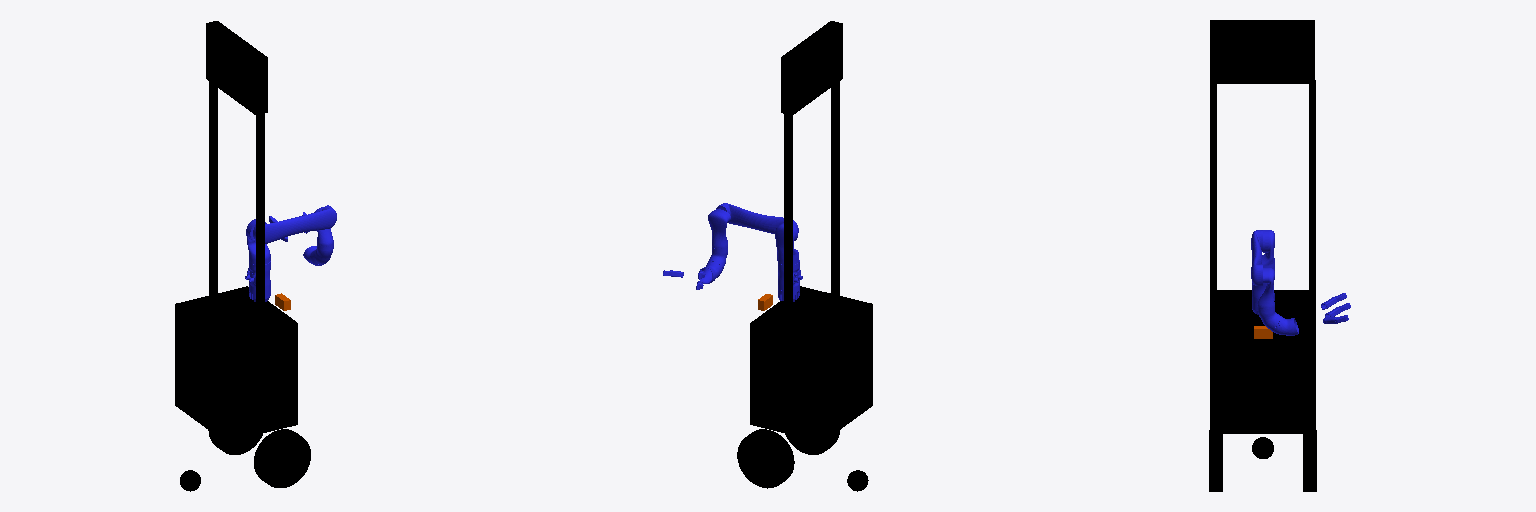
--- What the picture shows (computed from the rendered views, not written in the file) ---
Views: 3 orthographic renders of the robot side by side, from view 1: azimuth 30°, elevation 25°; view 2: azimuth 150°, elevation 25°; view 3: azimuth 270°, elevation 25°.
Robot: sudo — 21 links, 20 joints (9 revolute, 2 continuous, 9 fixed); root link chassis; default pose: all joints at 0.
Links seen in each view (by area): view 1: bottom_body_box, top_body_box, right_wheel, top_bar_right, top_bar_left, mico_upper_arm_link, left_wheel; view 2: bottom_body_box, top_body_box, left_wheel, top_bar_left, top_bar_right, mico_upper_arm_link, mico_lower_arm_link, right_wheel; view 3: bottom_body_box, top_body_box, top_bar_left, top_bar_right, right_wheel, left_wheel, mico_upper_arm_link.
Boxes of the visible links, left/top/right/bottom form: bottom_body_box: left=175, top=286, right=297, bottom=441; top_body_box: left=206, top=21, right=267, bottom=115; right_wheel: left=254, top=429, right=310, bottom=487; top_bar_right: left=256, top=114, right=264, bottom=332; top_bar_left: left=209, top=82, right=217, bottom=297; mico_upper_arm_link: left=253, top=205, right=336, bottom=243; left_wheel: left=208, top=430, right=262, bottom=454; bottom_body_box: left=750, top=286, right=872, bottom=442; top_body_box: left=781, top=21, right=842, bottom=115; left_wheel: left=737, top=429, right=794, bottom=488; top_bar_left: left=784, top=114, right=792, bottom=332; top_bar_right: left=831, top=81, right=839, bottom=297; mico_upper_arm_link: left=716, top=203, right=798, bottom=233; mico_lower_arm_link: left=708, top=209, right=730, bottom=249; right_wheel: left=785, top=430, right=839, bottom=454; bottom_body_box: left=1210, top=290, right=1315, bottom=433; top_body_box: left=1210, top=20, right=1314, bottom=83; top_bar_left: left=1309, top=80, right=1315, bottom=309; top_bar_right: left=1210, top=84, right=1216, bottom=309; right_wheel: left=1209, top=430, right=1222, bottom=491; left_wheel: left=1303, top=430, right=1316, bottom=491; mico_upper_arm_link: left=1251, top=230, right=1262, bottom=285.
Size in the robot's own frame: 0.7099 by 0.5115 by 1.81 metres.
Meshes: 11 distinct files referenced, 9 mesh visuals loaded (7 Collada DAE); not drawn: 5 (reference not matched to a file when rendering).

robot.urdf — sudo:
<?xml version="1.0" ?>
<!-- =================================================================================== -->
<!-- |    This document was autogenerated by xacro from model.urdf.xacro               | -->
<!-- |    EDITING THIS FILE BY HAND IS NOT RECOMMENDED                                 | -->
<!-- =================================================================================== -->

<robot name="sudo" xmlns:controller="http://playerstage.sourceforge.net/gazebo/xmlschema/#controller" xmlns:interface="http://playerstage.sourceforge.net/gazebo/xmlschema/#interface" xmlns:sensor="http://playerstage.sourceforge.net/gazebo/xmlschema/#sensor" xmlns:xacro="http://ros.org/wiki/xacro">
  <origin rpy="0 0 0" xyz="0 0 0"/>
  <!-- Pioneer 2 Chassis-->
  <link name="chassis">
    <origin rpy="0 0 0" xyz="0 0 0.16"/>
    <visual name="visual">
      <origin rpy="0 0 0" xyz="0 0 0.04"/>
      <geometry>
        <mesh filename="package://sudo_description/models/pioneer2dx/meshes/chassis.dae"/>
      </geometry>
    </visual>
    <visual name="castor_visual">
      <origin rpy="0 0 0" xyz="-0.200 0 -0.12"/>
      <geometry>
        <sphere radius="0.04"/>
      </geometry>
      <material name="black">
        <color rgba="0 0 0 1.0"/>
      </material>
    </visual>
    <collision>
      <origin rpy="0 0 0" xyz="0 0 0.04"/>
      <geometry>
        <mesh filename="package://sudo_description/models/pioneer2dx/meshes/chassis.dae"/>
      </geometry>
    </collision>
  </link>
  <!-- Bottom cube of Sudo-->
  <link name="bottom_body_box">
    <visual name="visual">
      <geometry>
        <box size="0.315 0.38 0.42"/>
      </geometry>
      <material name="black">
        <color rgba="0 0 0 1.0"/>
      </material>
    </visual>
    <collision>
      <geometry>
        <box size="0.315 0.38 0.42"/>
      </geometry>
    </collision>
  </link>
  <!-- Top bar left of sudo-->
  <link name="top_bar_left">
    <origin rpy="0 0 0" xyz="0.04 0.165 1"/>
    <visual name="visual">
      <geometry>
        <box size="0.025 0.025 0.9"/>
      </geometry>
      <material name="black">
        <color rgba="0 0 0 1.0"/>
      </material>
    </visual>
    <collision>
      <geometry>
        <box size="0.025 0.025 0.9"/>
      </geometry>
    </collision>
  </link>
  <!-- Top bar right of sudo-->
  <link name="top_bar_right">
    <origin rpy="0 0 0" xyz="0.04 -0.165 1"/>
    <visual name="visual">
      <geometry>
        <box size="0.025 0.025 0.9"/>
      </geometry>
      <material name="black">
        <color rgba="0 0 0 1.0"/>
      </material>
    </visual>
    <collision>
      <geometry>
        <box size="0.025 0.025 0.9"/>
      </geometry>
    </collision>
  </link>
  <!-- Top part of sudo-->
  <link name="top_body_box">
    <origin rpy="0 0 0" xyz="0.04 0 1.7"/>
    <visual name="visual">
      <geometry>
        <box size="0.05 0.377 0.23"/>
      </geometry>
      <material name="black">
        <color rgba="0 0 0 1.0"/>
      </material>
    </visual>
    <collision>
      <geometry>
        <box size="0.05 0.377 0.23"/>
      </geometry>
    </collision>
  </link>
  <!-- Small webcam that Amir uses for Navigation-->
  <link name="webcam_link">
    <origin rpy="0 0 0" xyz="0.2 0 0.77"/>
    <visual name="visual">
      <geometry>
        <box size="0.029 0.068 0.040"/>
      </geometry>
    </visual>
  </link>
  <!-- The link for bottom kinect-->
  <link name="camera_link">
    <origin rpy="0 1.24 0" xyz="0.2 0 1.62"/>
    <visual name="visual">
      <geometry>
        <mesh filename="package://sudo_description/models/kinect/meshes/kinect.dae"/>
      </geometry>
    </visual>
  </link>
  <!-- The link for top kinect-->
  <link name="camera2_link">
    <origin rpy="0 0.33 0" xyz="0.07 0 1.85"/>
    <visual name="visual">
      <geometry>
        <mesh filename="package://sudo_description/models/kinect/meshes/kinect.dae"/>
      </geometry>
    </visual>
  </link>
  <!-- The link for sick laser. The used model is actually hokoyu-->
  <link name="laser_link">
    <origin rpy="0 0 3.14" xyz="-0.2 0 0.3"/>
    <visual name="visual">
      <geometry>
        <mesh filename="package://sudo_description/models/hokuyo/meshes/hokuyo.dae"/>
      </geometry>
    </visual>
  </link>



  <link name="right_wheel">
    <origin rpy="1.5707 1.5707 0" xyz="0.1 -0.17 0.11"/>
    <visual name="visual">
      <geometry>
        <cylinder length="0.05" radius="0.11"/>
      </geometry>
      <material name="black">
        <color rgba="0 0 0 1.0"/>
      </material>
    </visual>
    <collision>
      <geometry>
        <cylinder length="0.05" radius="0.11"/>
      </geometry>
    </collision>
  </link>

  <gazebo reference="right_wheel">
    <!-- fnh -->
    <material>Gazebo/Black</material>
    <turnGravityOff>false</turnGravityOff>
    <selfCollide>true</selfCollide>
    <mu1>100.0</mu1>
    <mu2>100.0</mu2>
    <kp>1000000.0</kp>
    <kd>1.0</kd>
  </gazebo>    

  <link name="left_wheel">
    <origin rpy="1.5707 1.5707 0" xyz="0.1 0.17 0.11"/>
    <visual name="visual">
      <geometry>
        <cylinder length="0.05" radius="0.11"/>
      </geometry>
      <material name="black">
        <color rgba="0 0 0 1.0"/>
      </material>
    </visual>
    <collision>
      <geometry>
        <cylinder length="0.05" radius="0.11"/>
      </geometry>
    </collision>
  </link>

  <gazebo reference="left_wheel">
    <!-- fnh -->
    <material>Gazebo/Black</material>
    <turnGravityOff>false</turnGravityOff>
    <selfCollide>true</selfCollide>
    <mu1>100.0</mu1>
    <mu2>100.0</mu2>
    <kp>1000000.0</kp>
    <kd>1.0</kd>
  </gazebo>
  

  <controller:diffdrive_plugin name="differential_drive_controller" plugin="libdiffdrive_plugin.so">
    <alwaysOn>true</alwaysOn>
    <update>100</update>
    <updateRate>100.0</updateRate>
    <leftJoint>left_wheel_hinge</leftJoint>
    <rightJoint>right_wheel_hinge</rightJoint>
    <wheelSeparation>0.34</wheelSeparation>
    <wheelDiameter>0.11</wheelDiameter>
    <torque>5</torque>
    <interface:position name="position_iface_0"/>
    <robotNamespace>/</robotNamespace>
    <topicName>cmd_vel</topicName>
  </controller:diffdrive_plugin>

  <joint name="left_wheel_hinge" type="continuous">
    <origin rpy="1.5707 0 0" xyz="0.1 0.17 -0.03"/>
    <child link="left_wheel"/>
    <parent link="chassis"/>
    <axis xyz="0 1 0"/>
    <limit effort="100" velocity="100"/>
    <joint_properties damping="0.0" friction="0.0"/>
  </joint>
  
    <transmission name="left_wheel_transmission">
    <type>transmission_interface/SimpleTransmission</type>
    <actuator name="left_wheel_motor">
      <hardwareInterface>EffortJointInterface</hardwareInterface>
      <mechanicalReduction>50</mechanicalReduction>
    </actuator>
    <joint name="left_wheel_hinge"/>
    <mechanicalReduction>50</mechanicalReduction>
    <motorTorqueConstant>1</motorTorqueConstant>
    <pulsesPerRevolution>10000</pulsesPerRevolution>
  </transmission>
  
  <joint name="right_wheel_hinge" type="continuous">
    <origin rpy="1.5707 0 0" xyz="0.1 -0.17 -0.03"/>
    <child link="right_wheel"/>
    <parent link="chassis"/>
    <axis xyz=" 0 1 0"/>
    <limit effort="100" velocity="100"/>
    <joint_properties damping="0.0" friction="0.0"/>
  </joint>
  <transmission name="right_wheel_transmission">
    <type>transmission_interface/SimpleTransmission</type>
    <actuator name="right_wheel_motor">
      <hardwareInterface>EffortJointInterface</hardwareInterface>
      <mechanicalReduction>50</mechanicalReduction>
    </actuator>
    <joint name="right_wheel_hinge"/>
    <mechanicalReduction>50</mechanicalReduction>
    <motorTorqueConstant>1</motorTorqueConstant>
    <pulsesPerRevolution>10000</pulsesPerRevolution>
  </transmission>
  
  <!-- Connection between chassis and bottom rectangular box-->
  <joint name="chassis_to_bottom" type="fixed">
    <origin rpy=" 0 0 0" xyz="0 0 0.315"/>
    <child link="bottom_body_box"/>
    <parent link="chassis"/>
  </joint>
  <!-- Connection between chassis and laser-->
  <joint name="laser_to_chassis" type="fixed">
    <origin rpy="0 0 3.14" xyz="-0.2 0 0.15 "/>
    <child link="laser_link"/>
    <parent link="chassis"/>
  </joint>
  <!-- Connection between top bar left and bottom rectangular boxes-->
  <joint name="bottom_to_bar_left" type="fixed">
    <origin rpy="0 0 0" xyz="0 0.177 0.66"/>
    <child link="top_bar_left"/>
    <parent link="bottom_body_box"/>
  </joint>
  <!-- Connection between top bar right and bottom rectangular boxes-->
  <joint name="bottom_to_bar_right" type="fixed">
    <origin rpy="0 0 0" xyz="0 -0.177 0.66"/>
    <child link="top_bar_right"/>
    <parent link="bottom_body_box"/>
  </joint>
  <!-- Connection between top and bottom rectangular boxes-->
  <joint name="bar_left_to_top" type="fixed">
    <origin rpy="0 0 0" xyz="0 -0.178 0.565"/>
    <child link="top_body_box"/>
    <parent link="top_bar_left"/>
  </joint>
  <!-- Connection between webcam and bottom rectangular box-->
  <joint name="bottom_to_webcam" type="fixed">
    <origin rpy="0 0 0" xyz="0.2 0 0.21"/>
    <child link="webcam_link"/>
    <parent link="bottom_body_box"/>
  </joint>
  <!-- Connection between bottom kinect and top body-->
  <joint name="bottom_kinect_to_top_body" type="fixed">
    <origin rpy="0 0.33 0" xyz="0.07 0 1.66"/>
    <child link="camera_link"/>
    <parent link="chassis"/>
  </joint>
  <!-- Connection between top kinect and top body-->
  <joint name="top_kinect_to_top_body" type="fixed">
    <origin rpy="0 1.24 0" xyz="0.2 0 1.43"/>
    <child link="camera2_link"/>
    <parent link="chassis"/>
  </joint>
  <!-- Mico -->
  <material name="JacoGrey">
    <color rgba="0.2 0.2 0.9 1.0"/>
  </material>
  <joint name="mico_base_joint" type="fixed">
    <origin rpy="0 0 1.57" xyz="0.1 0 0.31"/>
    <!-- fnh was: <origin xyz="0 0 0" rpy="0 0 0"/> -->
    <parent link="bottom_body_box"/>
    <child link="mico_base_link"/>
  </joint>
  <link name="mico_base_link">
    <inertial>
      <!-- fnh -->
      <origin xyz="0 0 0"/>
      <mass value="1.0"/>
      <inertia ixx="1" ixy="0" ixz="0" iyy="1" iyz="0" izz="1"/>
    </inertial>
    <visual>
      <material name="JacoGrey"/>
      <origin rpy="0 0 1.57079632679" xyz="0 0 0"/>
      <geometry>
        <mesh filename="package://jaco_description/meshes/jaco_base_joint.dae"/>
      </geometry>
    </visual>
    <collision>
      <origin rpy="0 0 1.57079632679" xyz="0 0 0"/>
      <geometry>
        <mesh filename="package://jaco_description/meshes/jaco_base_joint.dae"/>
      </geometry>
    </collision>
  </link>
  <gazebo reference="mico_base_link">
    <!-- fnh -->
    <material>Gazebo/Grey</material>
    <turnGravityOff>false</turnGravityOff>
    <selfCollide>true</selfCollide>
    <mu1>100.0</mu1>
    <mu2>100.0</mu2>
    <kp>1000000.0</kp>
    <kd>1.0</kd>
  </gazebo>
  <joint name="mico_shoulder_yaw_joint" type="revolute">
    <!--<origin xyz="0 0 ${D1}" rpy="0 0 0"/>-->
    <origin rpy="0 0 -1.57" xyz="0 0 0.2142"/>
    <axis rpy="0 0 0" xyz="0 0 1"/>
    <parent link="mico_base_link"/>
    <child link="mico_shoulder_link"/>
    <limit effort="200" lower="-3.04159265359" upper="3.04159265359" velocity="0.837758016"/>
    <dynamics damping="50.5"/>
  </joint>
  <transmission name="mico_shoulder_yaw_joint_transmission">
    <type>transmission_interface/SimpleTransmission</type>
    <actuator name="mico_shoulder_yaw_joint_motor">
      <hardwareInterface>EffortJointInterface</hardwareInterface>
      <mechanicalReduction>50</mechanicalReduction>
    </actuator>
    <joint name="mico_shoulder_yaw_joint"/>
    <mechanicalReduction>50</mechanicalReduction>
    <motorTorqueConstant>1</motorTorqueConstant>
    <pulsesPerRevolution>10000</pulsesPerRevolution>
  </transmission>
  <link name="mico_shoulder_link">
    <inertial>
      <!-- fnh -->
      <origin xyz="0 0 0"/>
      <mass value="1.0"/>
      <inertia ixx="1" ixy="0" ixz="0" iyy="1" iyz="0" izz="1"/>
    </inertial>
    <visual>
      <material name="JacoGrey"/>
      <origin rpy="1.57079632679 -1.57079632679 0" xyz="0 0 0"/>
      <geometry>
        <mesh filename="package://jaco_description/meshes/jaco_shoulder_yaw_joint.dae"/>
      </geometry>
    </visual>
    <collision>
      <origin rpy="1.57079632679 -1.57079632679 0" xyz="0 0 0"/>
      <geometry>
        <mesh filename="package://jaco_description/meshes/jaco_shoulder_yaw_joint.dae"/>
      </geometry>
    </collision>
  </link>
  <gazebo reference="mico_shoulder_link">
    <!-- fnh -->
    <material>Gazebo/Grey</material>
    <turnGravityOff>false</turnGravityOff>
    <selfCollide>true</selfCollide>
    <mu1>100.0</mu1>
    <mu2>100.0</mu2>
    <kp>1000000.0</kp>
    <kd>1.0</kd>
  </gazebo>
  <joint name="mico_shoulder_pitch_joint" type="revolute">
    <origin rpy="-1.57079632679 0 0" xyz="0 -1e-06 0"/>
    <axis xyz="0 0 1"/>
    <parent link="mico_shoulder_link"/>
    <child link="mico_upper_arm_link"/>
    <limit effort="300" lower="-3.83972424" upper="0.69813168" velocity="0.837758016"/>
    <dynamics damping="50.5"/>
  </joint>
  <transmission name="mico_shoulder_pitch_joint_transmission">
    <type>transmission_interface/SimpleTransmission</type>
    <actuator name="mico_shoulder_pitch_joint_motor">
      <hardwareInterface>EffortJointInterface</hardwareInterface>
      <mechanicalReduction>50</mechanicalReduction>
    </actuator>
    <joint name="mico_shoulder_pitch_joint"/>
    <mechanicalReduction>50</mechanicalReduction>
    <motorTorqueConstant>1</motorTorqueConstant>
    <pulsesPerRevolution>10000</pulsesPerRevolution>
  </transmission>
  <link name="mico_upper_arm_link">
    <inertial>
      <!-- fnh -->
      <origin xyz="0 0 0"/>
      <mass value="1.0"/>
      <inertia ixx="1" ixy="0" ixz="0" iyy="1" iyz="0" izz="1"/>
    </inertial>
    <visual>
      <material name="JacoGrey"/>
      <origin rpy="0 0 -1.57079632679" xyz="0 0 0"/>
      <geometry>
        <mesh filename="package://jaco_description/meshes/jaco_shoulder_pitch_joint.dae" scale="1 0.707317073171 1"/>
      </geometry>
    </visual>
    <collision>
      <origin rpy="0 0 -1.57079632679" xyz="0 0 0"/>
      <geometry>
        <mesh filename="package://jaco_description/meshes/jaco_shoulder_pitch_joint.dae" scale="1 0.707317073171 1"/>
      </geometry>
    </collision>
  </link>
  <gazebo reference="mico_upper_arm_link">
    <!-- fnh -->
    <material>Gazebo/Grey</material>
    <turnGravityOff>false</turnGravityOff>
    <selfCollide>true</selfCollide>
    <mu1>100.0</mu1>
    <mu2>100.0</mu2>
    <kp>1000000.0</kp>
    <kd>1.0</kd>
  </gazebo>
  <joint name="mico_elbow_pitch_joint" type="revolute">
    <origin rpy="0 0 0" xyz="0.29 0 0.012001"/>
    <axis xyz="0 0 1"/>
    <parent link="mico_upper_arm_link"/>
    <child link="mico_lower_arm_link"/>
    <limit effort="200" lower="-4.363323" upper="1.22173044" velocity="0.837758016"/>
    <dynamics damping="50.5"/>
  </joint>
  <transmission name="mico_elbow_pitch_joint_transmission">
    <type>transmission_interface/SimpleTransmission</type>
    <actuator name="mico_elbow_pitch_joint_motor">
      <hardwareInterface>EffortJointInterface</hardwareInterface>
      <mechanicalReduction>50</mechanicalReduction>
    </actuator>
    <joint name="mico_elbow_pitch_joint"/>
    <mechanicalReduction>50</mechanicalReduction>
    <motorTorqueConstant>1</motorTorqueConstant>
    <pulsesPerRevolution>10000</pulsesPerRevolution>
  </transmission>
  <link name="mico_lower_arm_link">
    <inertial>
      <!-- fnh -->
      <origin xyz="0 0 0"/>
      <mass value="0.8"/>
      <inertia ixx="1" ixy="0" ixz="0" iyy="1" iyz="0" izz="1"/>
    </inertial>
    <visual>
      <material name="JacoGrey"/>
      <origin rpy="3.14159265359 0 3.14159265359" xyz="0 0 -0.012"/>
      <geometry>
        <mesh filename="package://jaco_description/meshes/jaco_elbow_pitch_joint.dae" scale="1 0.601463414634 1"/>
      </geometry>
    </visual>
    <collision>
      <origin rpy="3.14159265359 0 3.14159265359" xyz="0 0 -0.012"/>
      <geometry>
        <mesh filename="package://jaco_description/meshes/jaco_elbow_pitch_joint.dae" scale="1 0.601463414634 1"/>
      </geometry>
    </collision>
  </link>
  <gazebo reference="mico_lower_arm_link">
    <!-- fnh -->
    <material>Gazebo/Grey</material>
    <turnGravityOff>false</turnGravityOff>
    <selfCollide>true</selfCollide>
    <mu1>100.0</mu1>
    <mu2>100.0</mu2>
    <kp>1000000.0</kp>
    <kd>1.0</kd>
  </gazebo>
  <joint name="mico_elbow_roll_joint" type="revolute">
    <origin rpy="-1.57079632679 0 0" xyz="0 0.165571 0 "/>
    <axis xyz="0 0 1"/>
    <parent link="mico_lower_arm_link"/>
    <child link="mico_lower_arm_roll_link"/>
    <limit effort="40" lower="-3.04159265359" upper="3.04159265359" velocity="1.04719752"/>
    <dynamics damping="50.5"/>
  </joint>
  <transmission name="mico_elbow_roll_joint_transmission">
    <type>transmission_interface/SimpleTransmission</type>
    <actuator name="mico_elbow_roll_joint_motor">
      <hardwareInterface>EffortJointInterface</hardwareInterface>
      <mechanicalReduction>50</mechanicalReduction>
    </actuator>
    <joint name="mico_elbow_roll_joint"/>
    <mechanicalReduction>50</mechanicalReduction>
    <motorTorqueConstant>1</motorTorqueConstant>
    <pulsesPerRevolution>10000</pulsesPerRevolution>
  </transmission>
  <link name="mico_lower_arm_roll_link">
    <inertial>
      <!-- fnh -->
      <origin xyz="0 0 0"/>
      <mass value="0.5"/>
      <inertia ixx="1" ixy="0" ixz="0" iyy="1" iyz="0" izz="1"/>
    </inertial>
    <visual>
      <material name="JacoGrey"/>
      <origin rpy="3.14159265359 0 1.57079632679" xyz="0 0 -0.04227"/>
      <geometry>
        <mesh filename="package://jaco_description/meshes/jaco_elbow_roll_joint.dae"/>
      </geometry>
    </visual>
    <collision>
      <origin rpy="3.14159265359 0 1.57079632679" xyz="0 0 -0.04227"/>
      <geometry>
        <mesh filename="package://jaco_description/meshes/jaco_elbow_roll_joint.dae"/>
      </geometry>
    </collision>
  </link>
  <gazebo reference="mico_lower_arm_roll_link">
    <!-- fnh -->
    <material>Gazebo/Grey</material>
    <turnGravityOff>false</turnGravityOff>
    <selfCollide>true</selfCollide>
    <mu1>100.0</mu1>
    <mu2>100.0</mu2>
    <kp>1000000.0</kp>
    <kd>1.0</kd>
  </gazebo>
  <joint name="mico_wrist_roll_joint" type="revolute">
    <origin rpy="0.959931088597 0 0" xyz="0 -0.0692622919853 0.0484979789618"/>
    <axis xyz="0 0 1"/>
    <parent link="mico_lower_arm_roll_link"/>
    <child link="mico_wrist_link"/>
    <limit effort="40" lower="-3.04159265359" upper="3.04159265359" velocity="1.04719752"/>
    <dynamics damping="50.5"/>
  </joint>
  <transmission name="mico_wrist_roll_joint_transmission">
    <type>transmission_interface/SimpleTransmission</type>
    <actuator name="mico_wrist_roll_joint_motor">
      <hardwareInterface>EffortJointInterface</hardwareInterface>
      <mechanicalReduction>50</mechanicalReduction>
    </actuator>
    <joint name="mico_wrist_roll_joint"/>
    <mechanicalReduction>50</mechanicalReduction>
    <motorTorqueConstant>1</motorTorqueConstant>
    <pulsesPerRevolution>10000</pulsesPerRevolution>
  </transmission>
  <link name="mico_wrist_link">
    <inertial>
      <!-- fnh -->
      <origin xyz="0 0 0"/>
      <mass value="0.5"/>
      <inertia ixx="1" ixy="0" ixz="0" iyy="1" iyz="0" izz="1"/>
    </inertial>
    <visual>
      <material name="JacoGrey"/>
      <origin rpy="0 3.14159265359 -1.57079632679" xyz="0 0 -0.0422768230075"/>
      <geometry>
        <mesh filename="package://jaco_description/meshes/jaco_wrist_roll_joint.dae"/>
      </geometry>
    </visual>
    <collision>
      <origin rpy="0 3.14159265359 -1.57079632679" xyz="0 0 -0.0422768230075"/>
      <geometry>
        <mesh filename="package://jaco_description/meshes/jaco_wrist_roll_joint.dae"/>
      </geometry>
    </collision>
  </link>
  <gazebo reference="mico_wrist_link">
    <!-- fnh -->
    <material>Gazebo/Grey</material>
    <turnGravityOff>false</turnGravityOff>
    <selfCollide>true</selfCollide>
    <mu1>100.0</mu1>
    <mu2>100.0</mu2>
    <kp>1000000.0</kp>
    <kd>1.0</kd>
  </gazebo>
  <joint name="mico_hand_roll_joint" type="revolute">
    <origin rpy="0.959931088597 0 0" xyz="0 -0.186174274186 0.130360630206"/>
    <axis xyz="0 0 1"/>
    <parent link="mico_wrist_link"/>
    <child link="mico_hand_link"/>
    <limit effort="40" lower="-3.04159265359" upper="3.04159265359" velocity="1.04719752"/>
    <dynamics damping="50.5"/>
  </joint>
  <transmission name="mico_hand_roll_joint_transmission">
    <type>transmission_interface/SimpleTransmission</type>
    <actuator name="mico_hand_roll_joint_motor">
      <hardwareInterface>EffortJointInterface</hardwareInterface>
      <mechanicalReduction>50</mechanicalReduction>
    </actuator>
    <joint name="mico_hand_roll_joint"/>
    <mechanicalReduction>50</mechanicalReduction>
    <motorTorqueConstant>1</motorTorqueConstant>
    <pulsesPerRevolution>10000</pulsesPerRevolution>
  </transmission>
  <link name="mico_hand_link">
    <inertial>
      <!-- fnh -->
      <origin xyz="0 0 0"/>
      <mass value="0.6"/>
      <inertia ixx="1" ixy="0" ixz="0" iyy="1" iyz="0" izz="1"/>
    </inertial>
    <visual>
      <material name="JacoGrey"/>
      <origin rpy="0 0 -3.14159265359" xyz="0 0 -0.185"/>
      <geometry>
        <mesh filename="package://jaco_description/meshes/jaco_hand_roll_joint.dae"/>
      </geometry>
    </visual>
    <collision>
      <origin rpy="0 0 -3.14159265359" xyz="0 0 -0.185"/>
      <geometry>
        <!--<mesh filename="package://jaco_description/meshes/jaco_hand_roll_joint.stl" scale="0.9 0.9 0.7" />  fnh -->
        <mesh filename="package://jaco_description/meshes/jaco_hand_roll_joint.dae"/>
      </geometry>
    </collision>
  </link>
  <gazebo reference="mico_hand_link">
    <!-- fnh -->
    <material>Gazebo/Grey</material>
    <turnGravityOff>false</turnGravityOff>
    <selfCollide>true</selfCollide>
    <mu1>100.0</mu1>
    <mu2>100.0</mu2>
    <kp>1000000.0</kp>
    <kd>1.0</kd>
  </gazebo>
  <joint name="mico_finger_1_joint" type="revolute">
    <!-- <origin xyz="-0.036 0.021 ${-0.07}" rpy="0 ${-M_PI/7} 0"/> -->
    <origin rpy="0 -0.448798950513 0" xyz="-0.036 0.021 -0.07"/>
    <axis xyz="0 1 0"/>
    <parent link="mico_hand_link"/>
    <child link="mico_finger_1_link"/>
    <limit effort="10" lower="-0.1" upper="1.04719752" velocity="1.0"/>
    <dynamics damping="50.5"/>
  </joint>
  <transmission name="mico_finger_1_joint_transmission">
    <type>transmission_interfacmico_arm_v0e/SimpleTransmission</type>
    <actuator name="mico_finger_1_joint_motor">
      <hardwareInterface>EffortJointInterface</hardwareInterface>
      <mechanicalReduction>50</mechanicalReduction>
    </actuator>
    <joint name="mico_finger_1_joint"/>
    <mechanicalReduction>50</mechanicalReduction>
    <motorTorqueConstant>1</motorTorqueConstant>
    <pulsesPerRevolution>10000</pulsesPerRevolution>
  </transmission>
  <link name="mico_finger_1_link">
    <inertial>
      <!-- fnh -->
      <origin xyz="0 0 0"/>
      <mass value="0.1"/>
      <inertia ixx="1" ixy="0" ixz="0" iyy="1" iyz="0" izz="1"/>
    </inertial>
    <visual>
      <material name="JacoGrey"/>
      <origin rpy="0 0 0" xyz="0 0 0"/>
      <geometry>
        <mesh filename="package://jaco_description/meshes/finger_new.dae"/>
      </geometry>
    </visual>
    <collision>
      <origin rpy="0 0 0" xyz="0 0 0"/>
      <geometry>
        <mesh filename="package://jaco_description/meshes/finger_new.dae"/>
      </geometry>
    </collision>
  </link>
  <gazebo reference="mico_finger_1_link">
    <!-- fnh -->
    <material>Gazebo/Grey</material>
    <turnGravityOff>false</turnGravityOff>
    <selfCollide>true</selfCollide>
    <mu1>100.0</mu1>
    <mu2>100.0</mu2>
    <kp>1000000.0</kp>
    <kd>1.0</kd>
  </gazebo>
  <joint name="mico_finger_2_joint" type="revolute">
    <origin rpy="0 -0.448798950513 -3.14159265359" xyz="0.036 -0 -0.07"/>
    <axis xyz="0 1 0"/>
    <parent link="mico_hand_link"/>
    <child link="mico_finger_2_link"/>
    <limit effort="10" lower="-0.1" upper="1.04719752" velocity="1.0"/>
    <dynamics damping="50.5"/>
  </joint>
  <transmission name="mico_finger_2_joint_transmission">
    <type>transmission_interface/SimpleTransmission</type>
    <actuator name="mico_finger_2_joint_motor">
      <hardwareInterface>EffortJointInterface</hardwareInterface>
      <mechanicalReduction>50</mechanicalReduction>
    </actuator>
    <joint name="mico_finger_2_joint"/>
    <mechanicalReduction>50</mechanicalReduction>
    <motorTorqueConstant>1</motorTorqueConstant>
    <pulsesPerRevolution>10000</pulsesPerRevolution>
  </transmission>
  <link name="mico_finger_2_link">
    <inertial>
      <!-- fnh -->
      <origin xyz="0 0 0"/>
      <mass value="0.1"/>
      <inertia ixx="1" ixy="0" ixz="0" iyy="1" iyz="0" izz="1"/>
    </inertial>
    <visual>
      <material name="JacoGrey"/>
      <origin rpy="0 0 0" xyz="0 0 0"/>
      <geometry>
        <mesh filename="package://jaco_description/meshes/finger_new.dae"/>
      </geometry>
    </visual>
    <collision>
      <origin rpy="0 0 0" xyz="0 0 0"/>
      <geometry>
        <mesh filename="package://jaco_description/meshes/finger_new.dae"/>
      </geometry>
    </collision>
  </link>
  <gazebo reference="mico_finger_2_link">
    <!-- fnh -->
    <material>Gazebo/Grey</material>
    <turnGravityOff>false</turnGravityOff>
    <selfCollide>true</selfCollide>
    <mu1>100.0</mu1>
    <mu2>100.0</mu2>
    <kp>1000000.0</kp>
    <kd>1.0</kd>
  </gazebo>
  <joint name="mico_finger_3_joint" type="revolute">
    <origin rpy="0 -0.448798950513 0" xyz="-0.036 -0.021 -0.07"/>
    <axis xyz="0 1 0"/>
    <parent link="mico_hand_link"/>
    <child link="mico_finger_3_link"/>
    <limit effort="10" lower="-0.1" upper="1.04719752" velocity="1.0"/>
    <dynamics damping="50.5"/>
  </joint>
  <transmission name="mico_finger_3_joint_transmission">
    <type>transmission_interface/SimpleTransmission</type>
    <actuator name="mico_finger_3_joint_motor">
      <hardwareInterface>EffortJointInterface</hardwareInterface>
      <mechanicalReduction>50</mechanicalReduction>
    </actuator>
    <joint name="mico_finger_3_joint"/>
    <mechanicalReduction>50</mechanicalReduction>
    <motorTorqueConstant>1</motorTorqueConstant>
    <pulsesPerRevolution>10000</pulsesPerRevolution>
  </transmission>
  <link name="mico_finger_3_link">
    <inertial>
      <!-- fnh -->
      <origin xyz="0 0 0"/>
      <mass value="0.1"/>
      <inertia ixx="1" ixy="0" ixz="0" iyy="1" iyz="0" izz="1"/>
    </inertial>
    <visual>
      <material name="JacoGrey"/>
      <origin rpy="0 0 0" xyz="0 0 0"/>
      <geometry>
        <mesh filename="package://jaco_description/meshes/finger_new.dae"/>
      </geometry>
    </visual>
    <collision>
      <origin rpy="0 0 0" xyz="0 0 0"/>
      <geometry>
        <mesh filename="package://jaco_description/meshes/finger_new.dae"/>
      </geometry>
    </collision>
  </link>
  <gazebo reference="mico_finger_3_link">
    <!-- fnh -->
    <material>Gazebo/Grey</material>
    <turnGravityOff>false</turnGravityOff>
    <selfCollide>true</selfCollide>
    <mu1>100.0</mu1>
    <mu2>100.0</mu2>
    <kp>1000000.0</kp>
    <kd>1.0</kd>
  </gazebo>
</robot>
